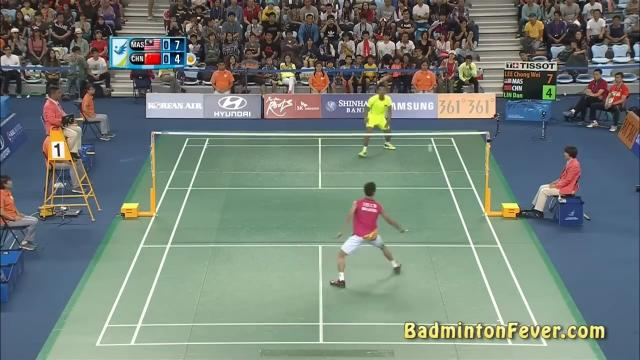Shuttlecock: (426, 142, 434, 152)
